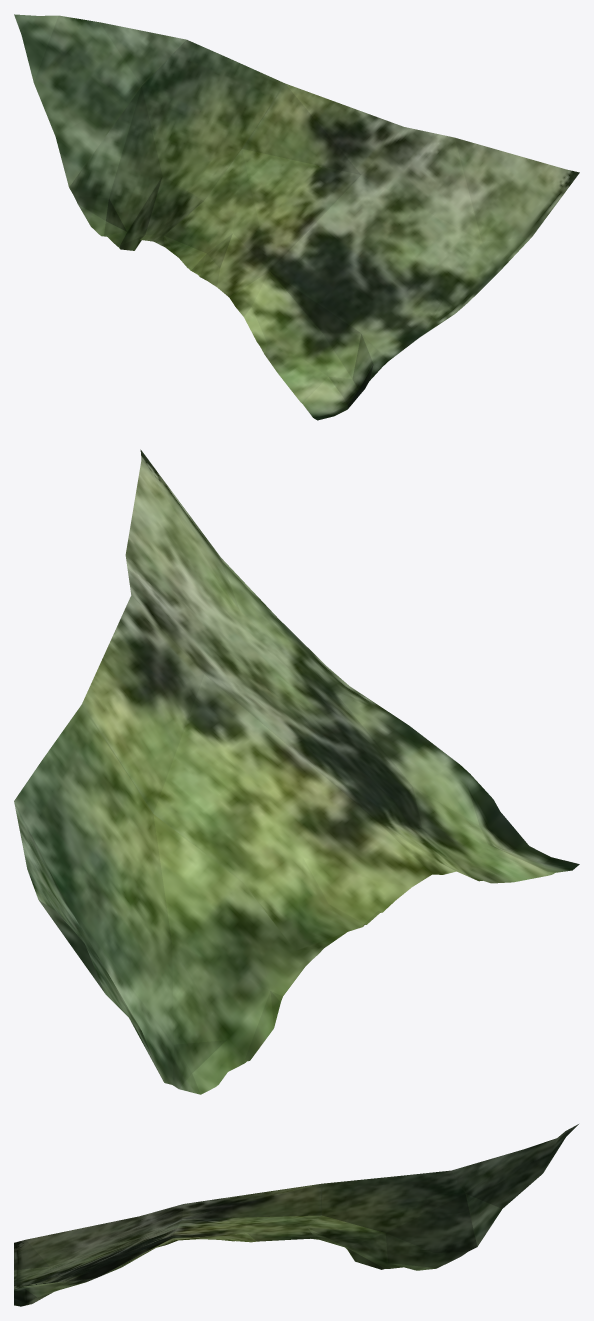
3 views of the same model, one above another, from view 1: azimuth 30°, elevation 25°; view 2: azimuth 150°, elevation 25°; view 3: azimuth 270°, elevation 25° (orthographic). The views are drawn at different scales.
Size of the model in its own units: 2.67 by 1.79 by 5.34.
1 material, 1 textured.
